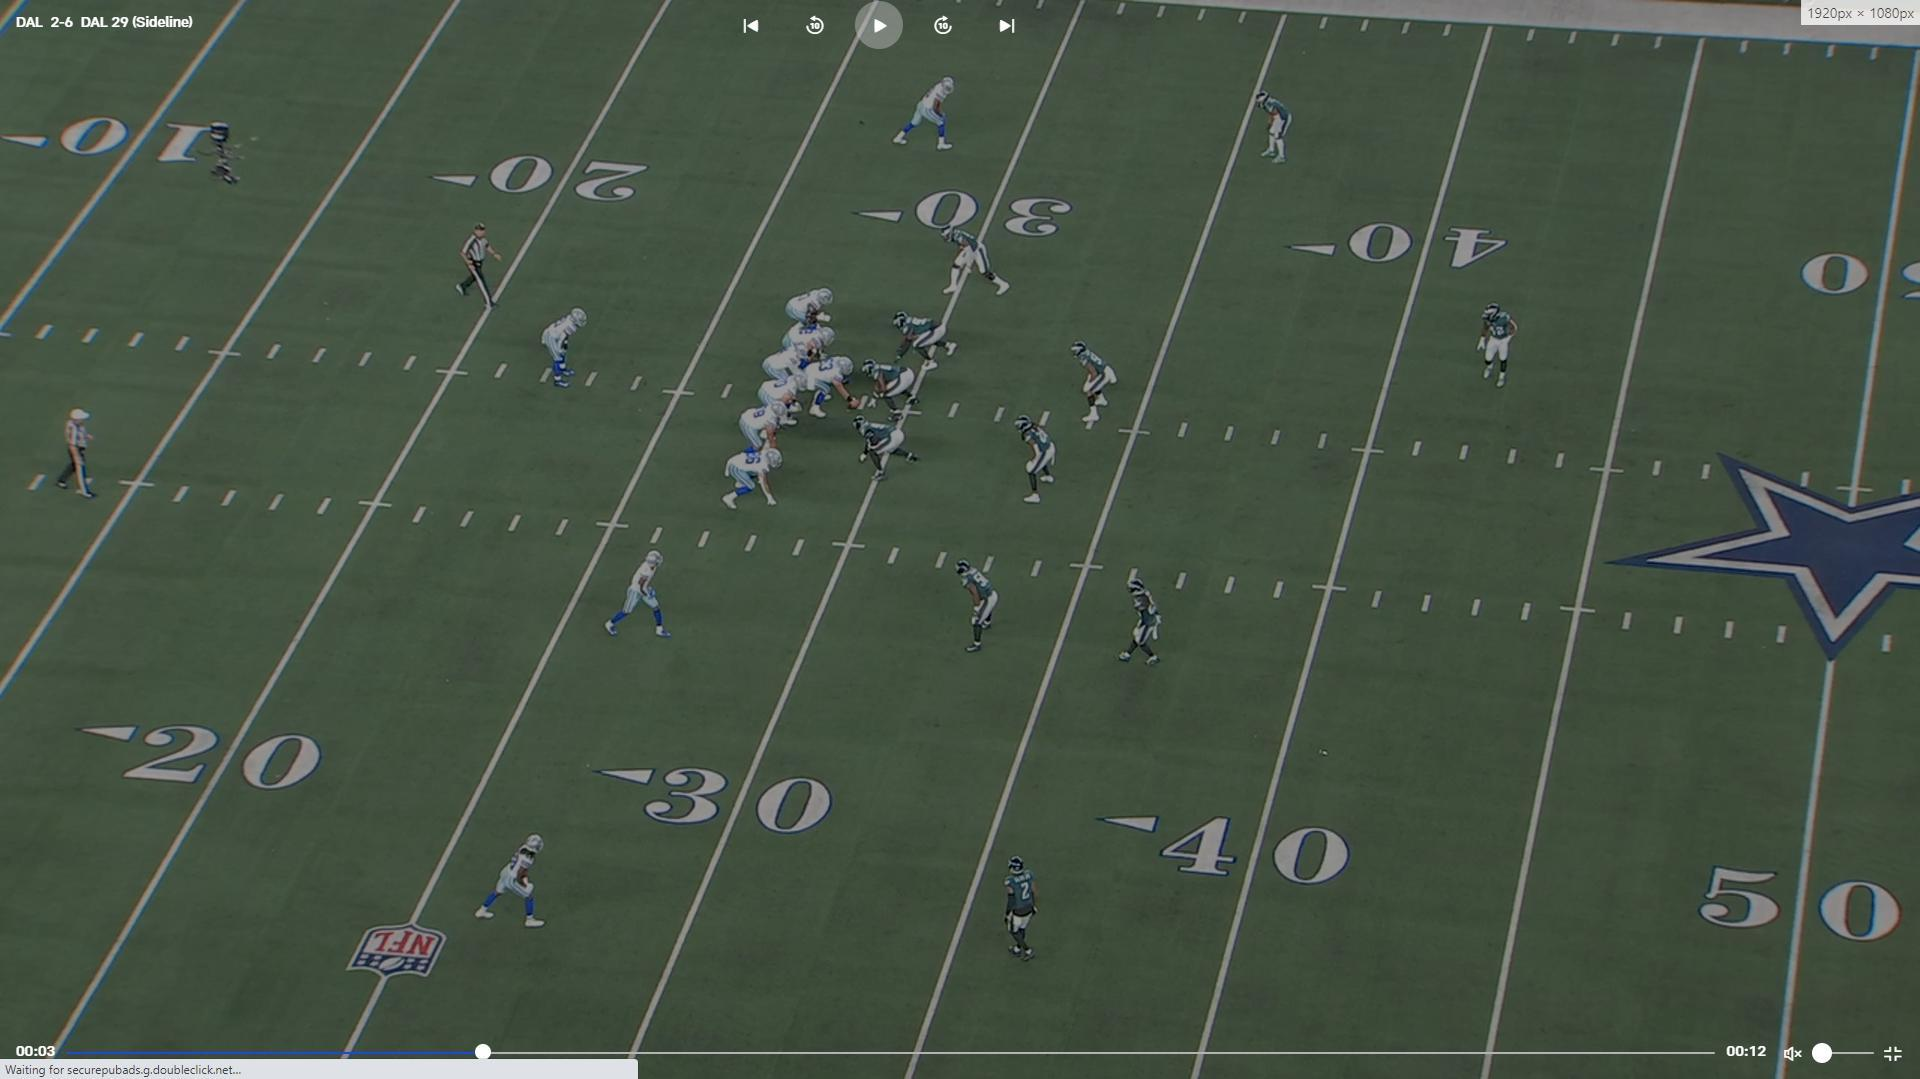player: (474, 834, 554, 937), (600, 544, 676, 644), (892, 73, 963, 154), (1000, 850, 1048, 965), (941, 222, 1011, 298), (846, 417, 921, 482), (1121, 566, 1168, 669), (954, 558, 1001, 657), (721, 445, 787, 514), (892, 312, 963, 375), (1068, 337, 1117, 428), (537, 307, 588, 394), (1016, 413, 1061, 510), (859, 357, 926, 417), (1474, 302, 1518, 393), (805, 354, 864, 417), (1255, 86, 1298, 169), (736, 400, 795, 458), (755, 377, 810, 433), (785, 284, 842, 329), (760, 337, 811, 387), (782, 321, 835, 358)
ref: (52, 405, 97, 503), (454, 222, 499, 310)
